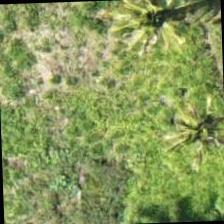Kelapa_Sawit: (154, 80, 223, 174), (107, 0, 200, 57)
